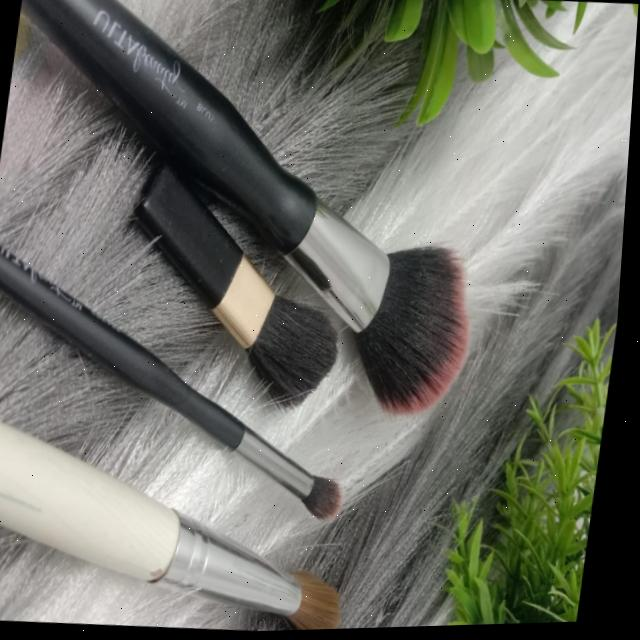brush: (0, 0, 520, 442), (0, 387, 390, 640)
